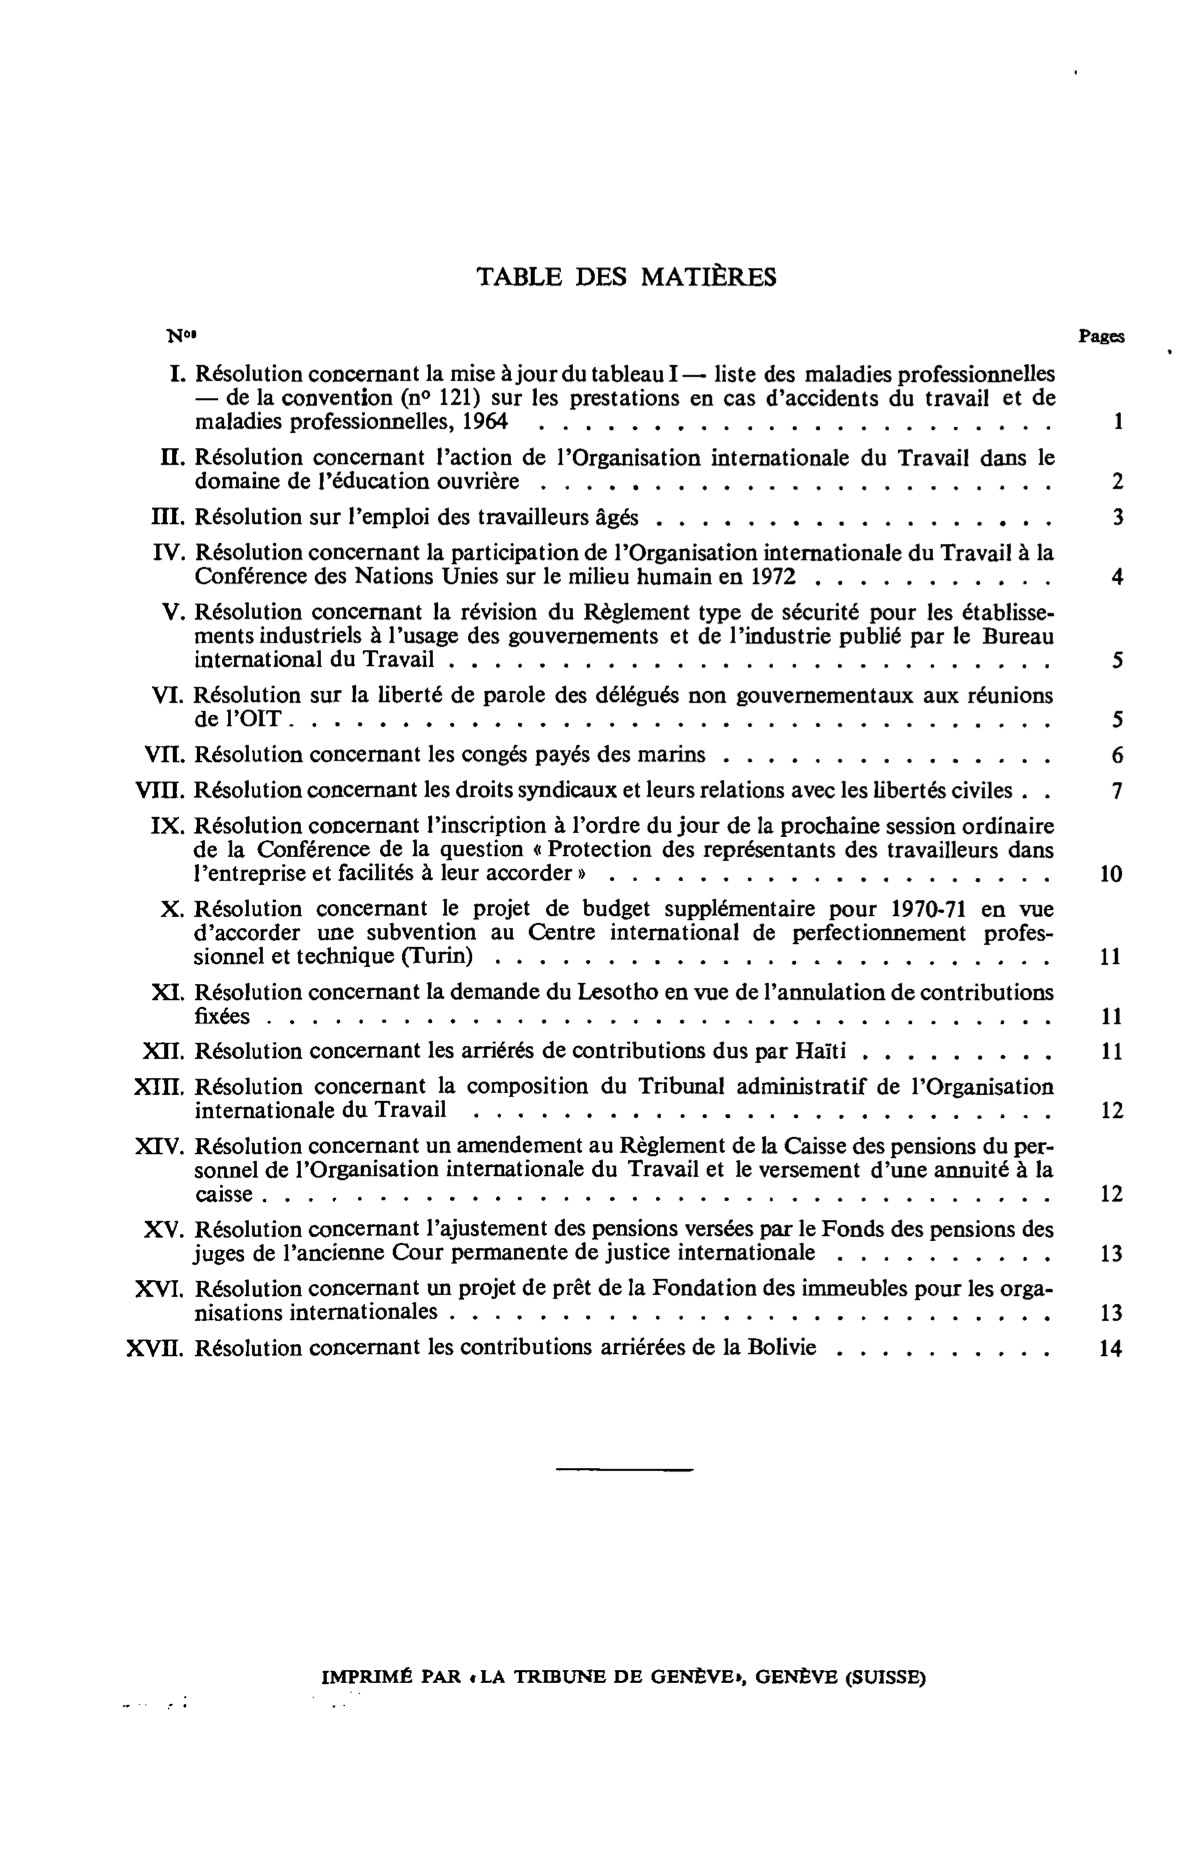MainZone-Head: (468, 251, 786, 303)
MarginTextZone-Notes: (309, 1659, 931, 1697)
QuireMarksZone: (129, 311, 1153, 1428)
